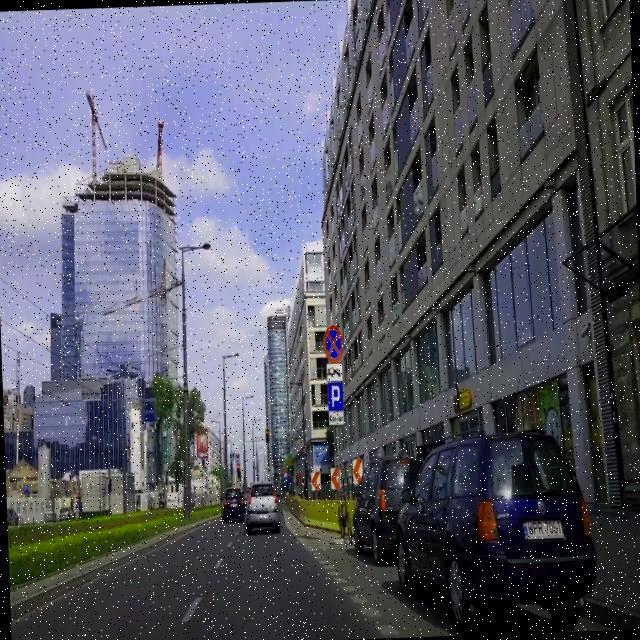Zakaz zatrzymywania sie: (322, 323, 344, 362)
